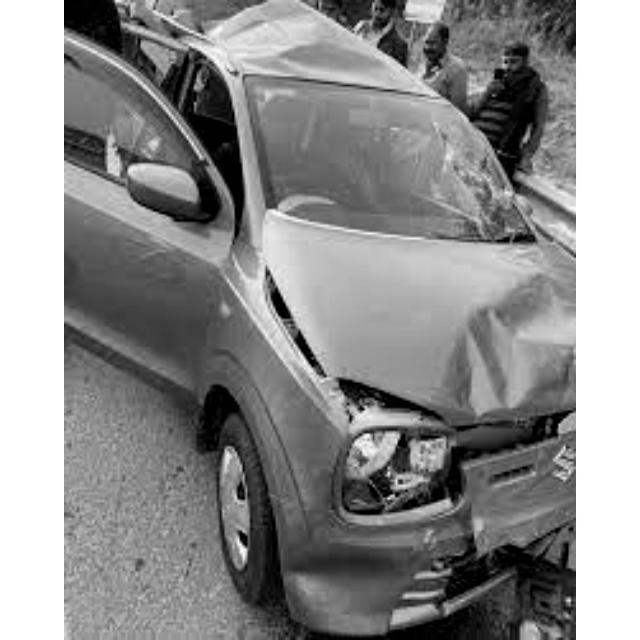bonnet-dent: (301, 222, 571, 420)
front-bumper-dent: (271, 423, 574, 637)
roof-dent: (116, 0, 437, 104)
